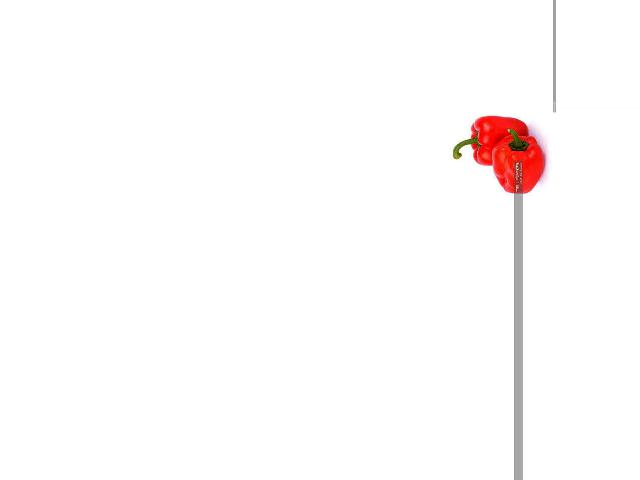bell_pepper: (487, 130, 543, 201)
